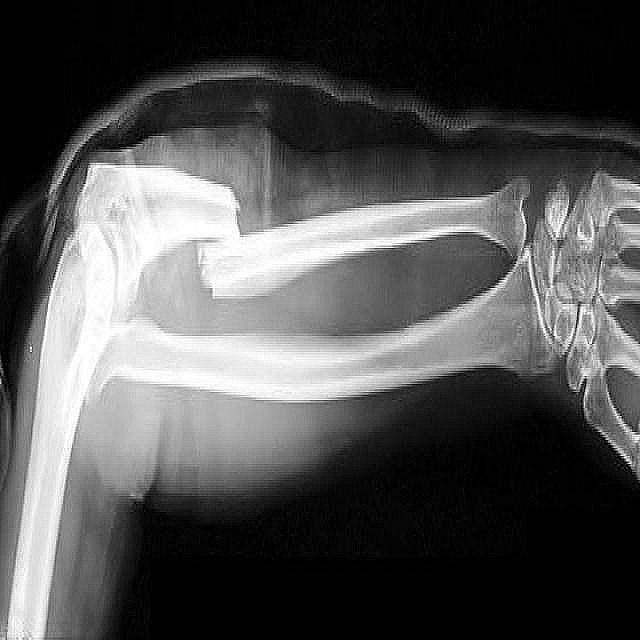bone: (188, 166, 257, 312)
